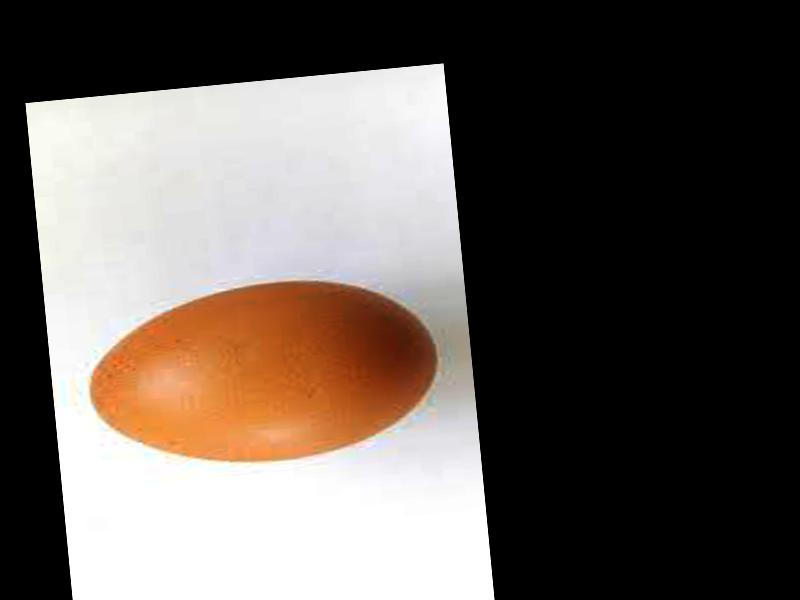Eggs: (81, 268, 442, 476)
